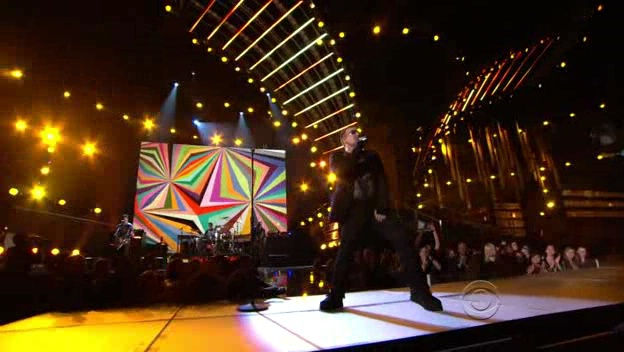person: (325, 124, 392, 241), (322, 124, 389, 241), (328, 124, 395, 241), (325, 121, 392, 238), (325, 127, 392, 244)
target_negative: (359, 43, 602, 327), (298, 104, 384, 344), (132, 233, 261, 328), (501, 127, 550, 254), (480, 287, 543, 326), (351, 318, 405, 321)
